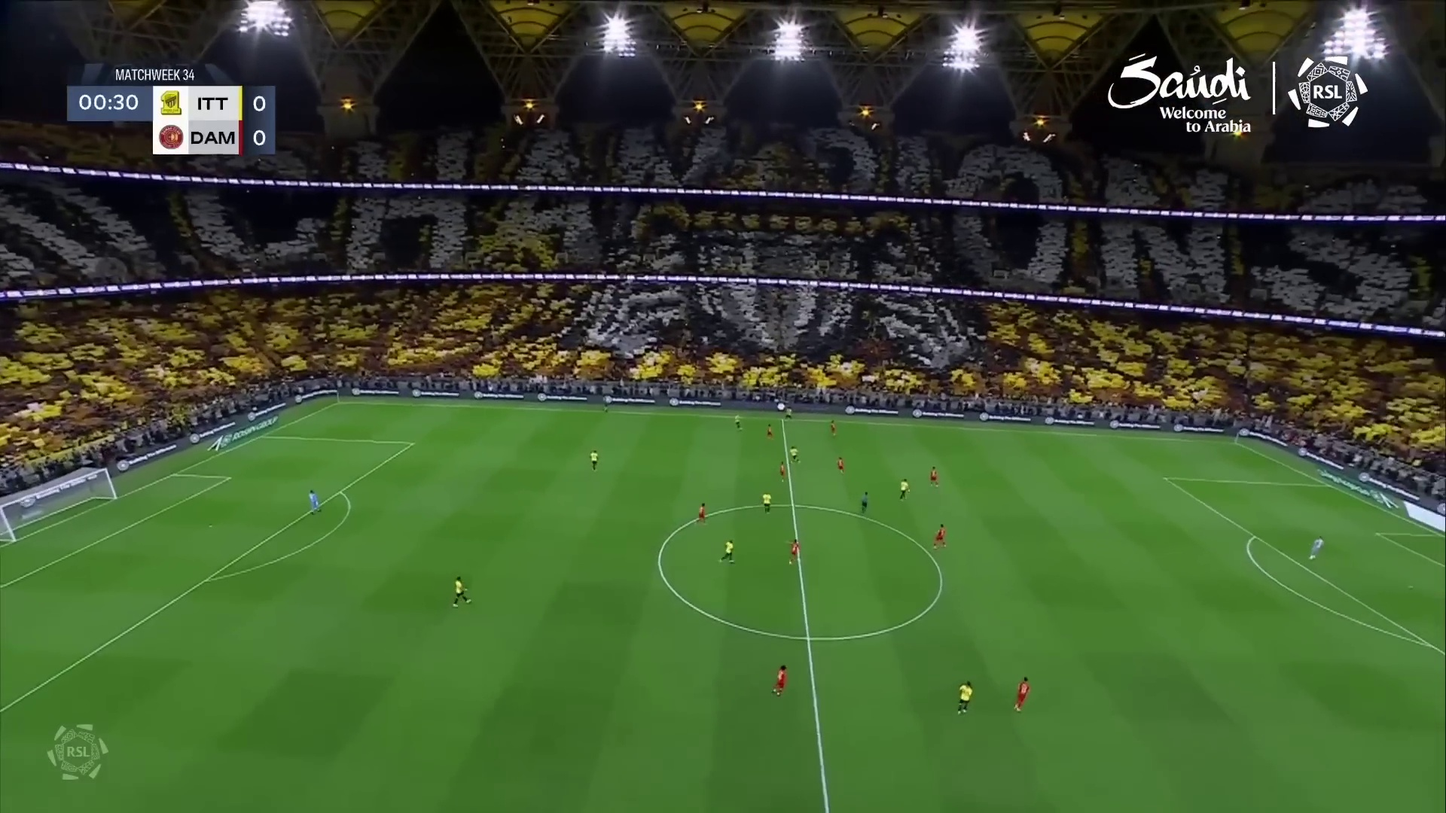player: (449, 576, 473, 610), (955, 681, 976, 717), (1013, 676, 1032, 713), (770, 664, 790, 699), (718, 539, 738, 566), (305, 489, 323, 516), (932, 522, 949, 550), (786, 538, 802, 567), (1308, 535, 1325, 562), (695, 501, 710, 525), (760, 491, 774, 516), (588, 448, 602, 473), (897, 478, 911, 502), (928, 464, 941, 489), (789, 443, 801, 466), (777, 459, 789, 482), (781, 400, 794, 421), (834, 454, 847, 475), (827, 418, 839, 439), (835, 454, 847, 475), (731, 412, 744, 431), (764, 423, 775, 441)
referee: (858, 490, 872, 516), (599, 390, 612, 414)
